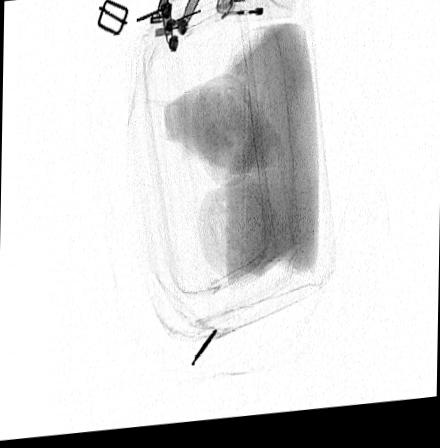Lighter: (214, 0, 295, 29)
